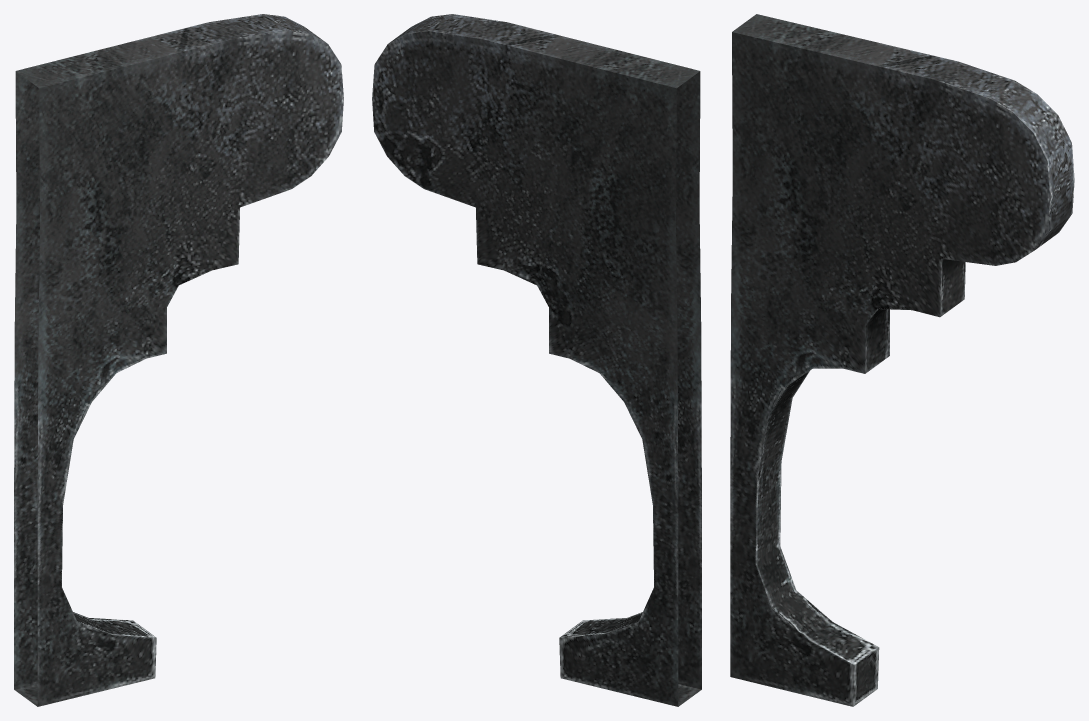
File: Stone Support.FBX
3 renders of one model, left to right at view 1: azimuth 30°, elevation 25°; view 2: azimuth 150°, elevation 25°; view 3: azimuth 330°, elevation 25°, orthographic. The views are drawn at different scales.
Visible parts, largest first — view 1: Stone Support; view 2: Stone Support; view 3: Stone Support.
Boxes of the visible parts, x1,y1,x2,y2 form: Stone Support: [14, 14, 343, 706]; Stone Support: [372, 14, 701, 706]; Stone Support: [730, 14, 1074, 706].
Size of the model in its own units: 102 by 13.6 by 197.
1 material, 1 textured.
